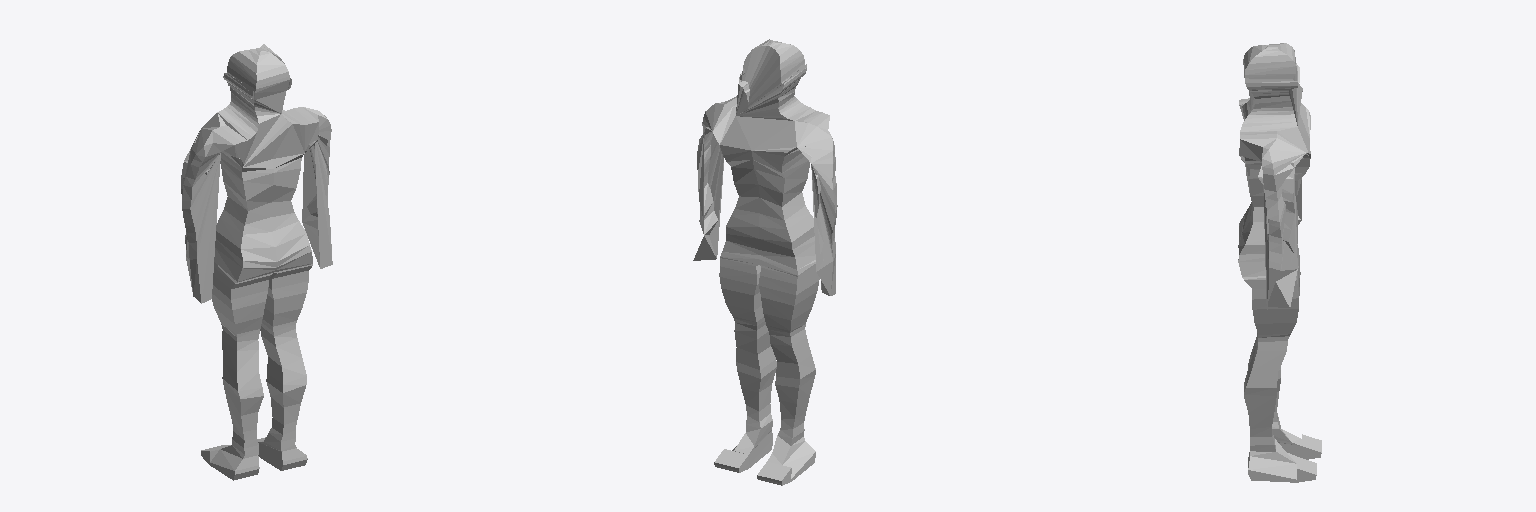
File: woman_000002.obj
3 views of the same model, side by side, from view 1: azimuth 30°, elevation 25°; view 2: azimuth 150°, elevation 25°; view 3: azimuth 270°, elevation 25° (orthographic).
Parts seen in each view (by area): view 1: Cube_Cube.001; view 2: Cube_Cube.001; view 3: Cube_Cube.001.
Part boxes in pixels (left/top/right/bottom): Cube_Cube.001: left=181, top=44, right=332, bottom=480; Cube_Cube.001: left=693, top=39, right=837, bottom=485; Cube_Cube.001: left=1238, top=43, right=1321, bottom=482.
Size of the model in its own units: 3.51 by 9.95 by 1.8.